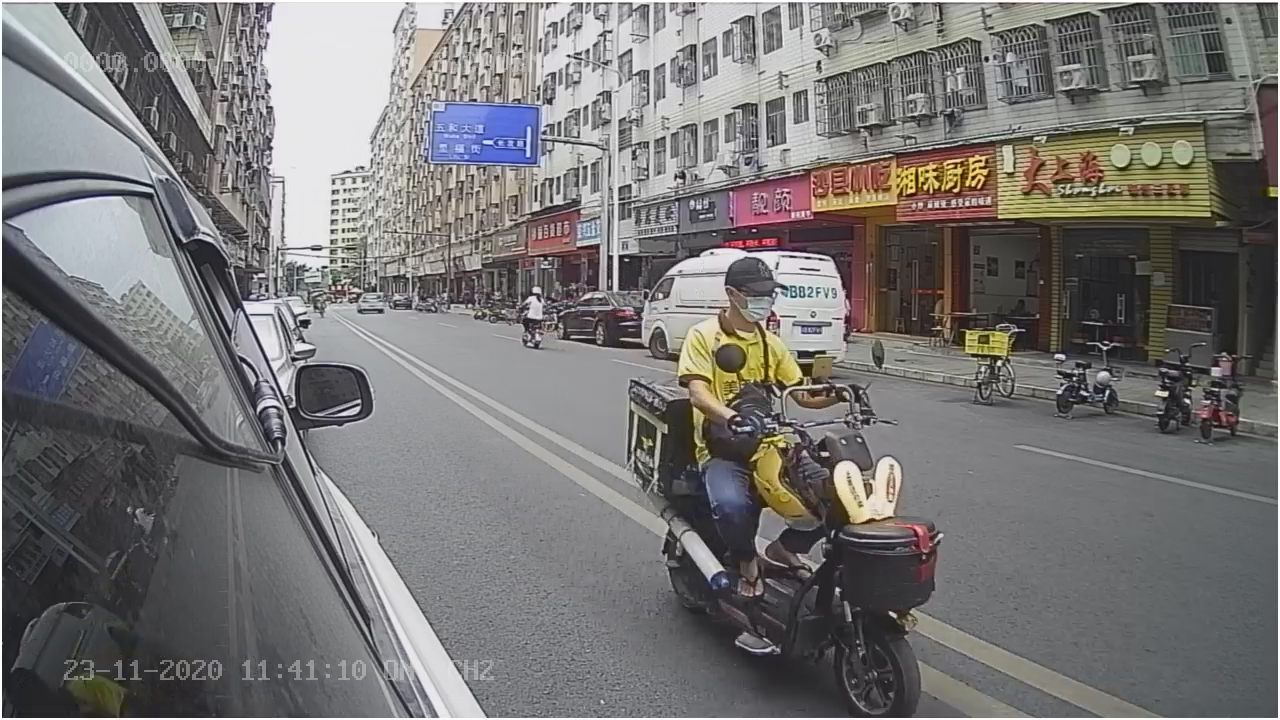person: (676, 251, 792, 421)
